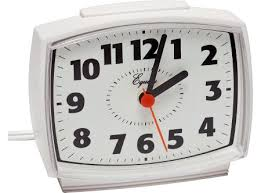alarm_clock: (30, 6, 252, 191)
